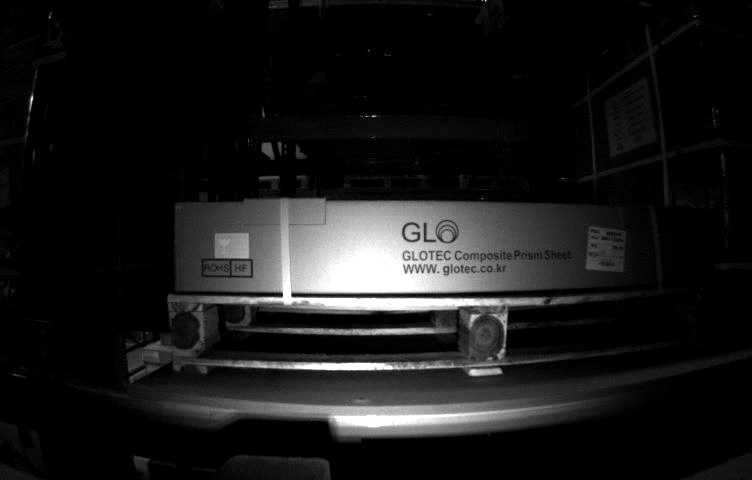True Barcode: (586, 224, 624, 274)
